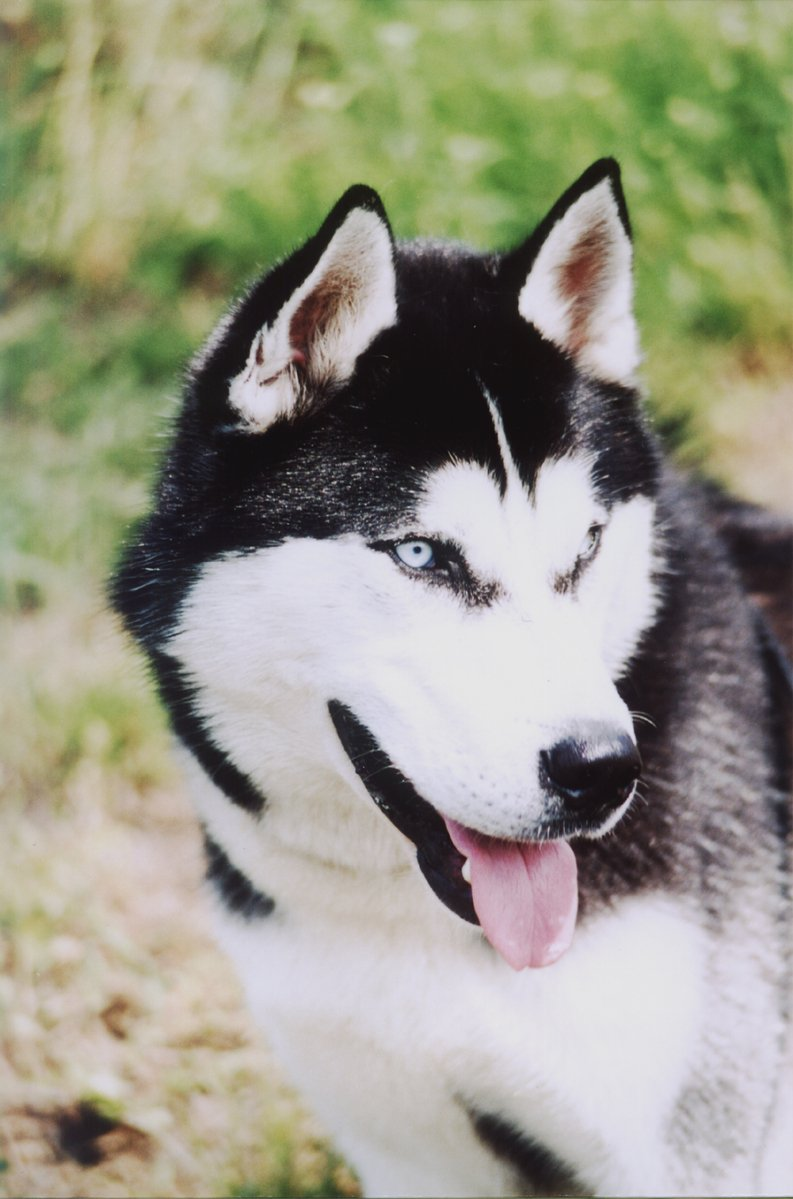husky: (99, 155, 783, 1188)
